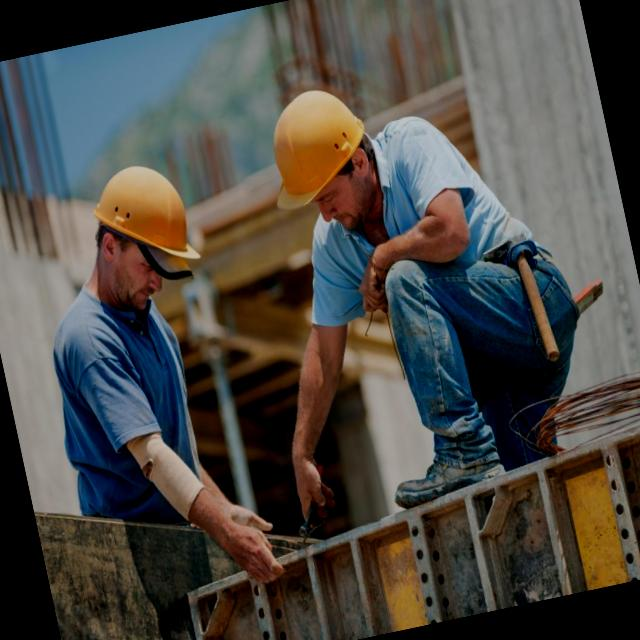helmet: (252, 80, 378, 218), (93, 158, 209, 282)
no-vest: (38, 299, 218, 546)
vest: (287, 106, 517, 332)
